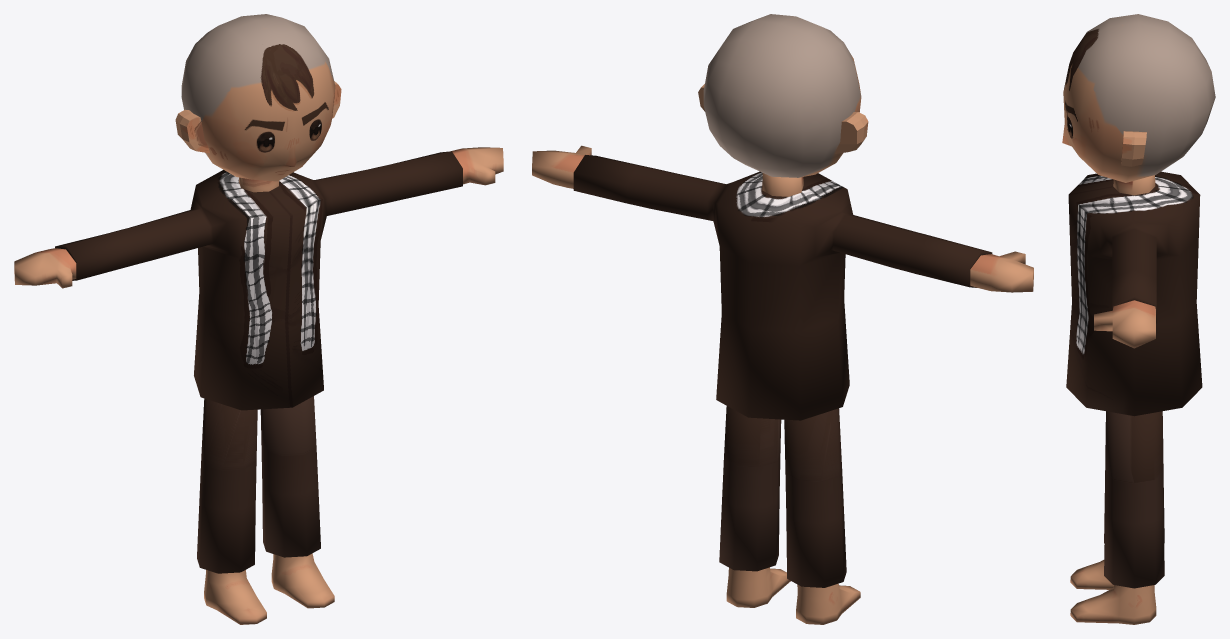
File: Maincharacter_Mixamo.fbx
3 views of the same model, side by side, from view 1: azimuth 30°, elevation 25°; view 2: azimuth 150°, elevation 25°; view 3: azimuth 270°, elevation 25° (orthographic). The views are drawn at different scales.
Visible parts, largest first — view 1: Ti; view 2: Ti; view 3: Ti.
Boxes of the visible parts, <box> form: Ti: <box>14,14,503,624</box>; Ti: <box>532,14,1033,624</box>; Ti: <box>1062,14,1215,624</box>.
Size of the model in its own units: 1.26 by 1.4 by 0.339.
4 materials, 4 textured.
